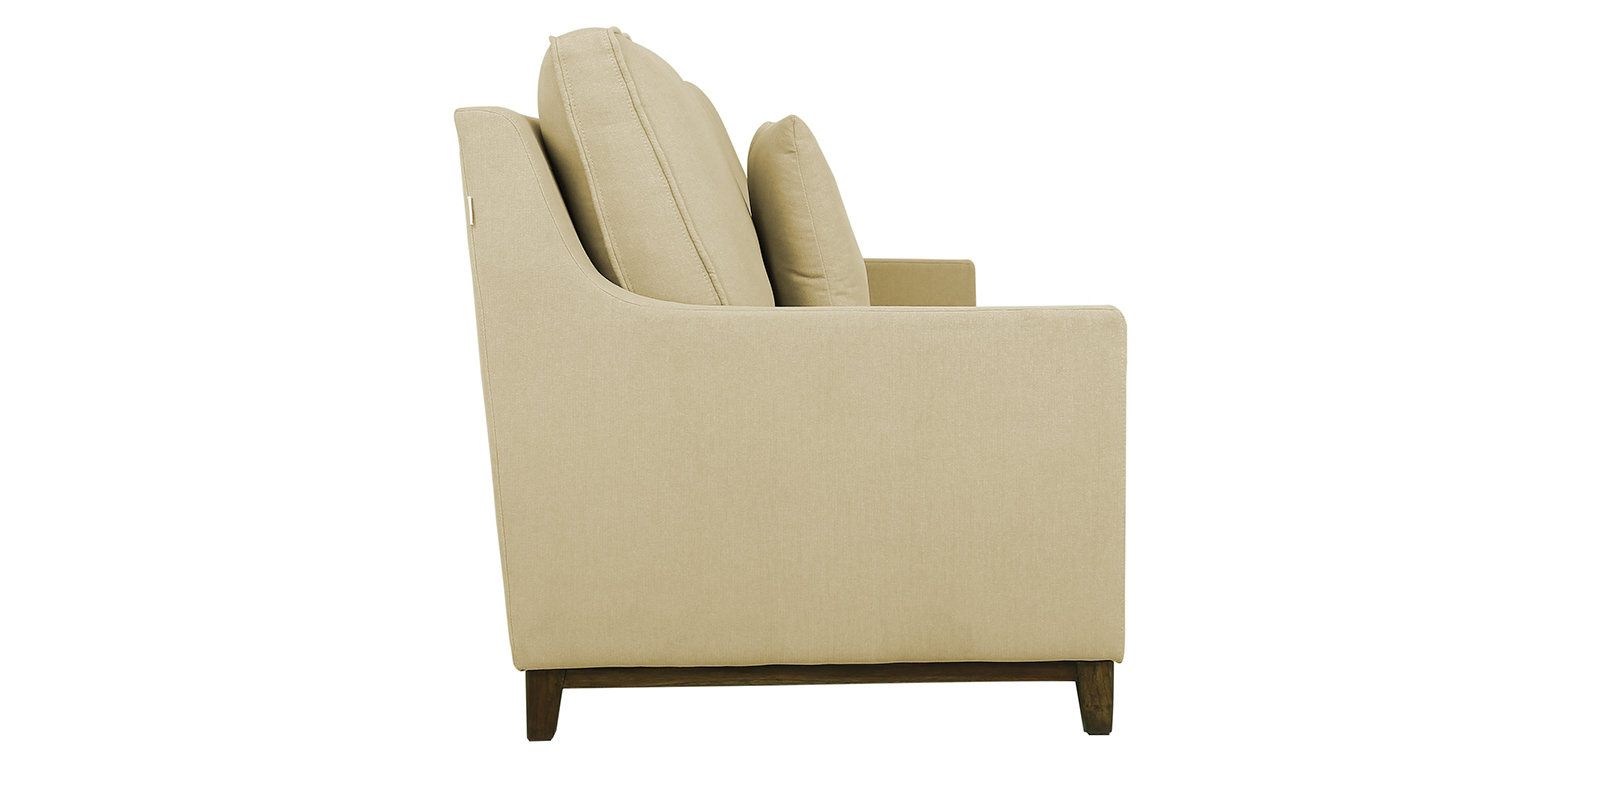Diego Three Seater Sofa in Beige Colour by CasaCraft: (429, 9, 1138, 767)
